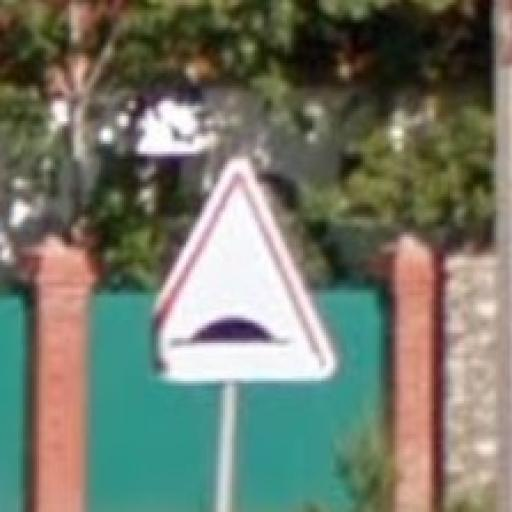traffic_sign: (148, 158, 341, 385)
